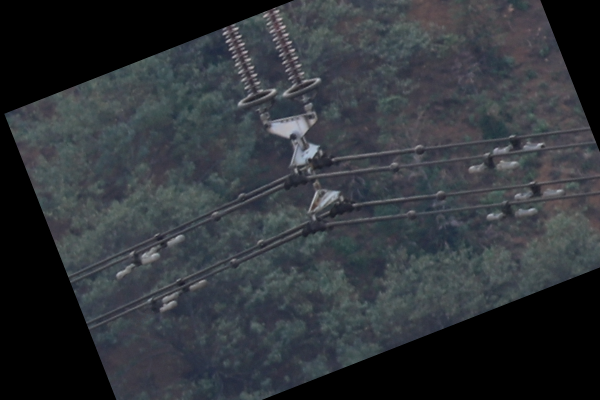damper: (113, 249, 161, 280), (161, 275, 209, 304), (142, 231, 187, 259), (484, 199, 539, 221), (491, 133, 547, 154), (465, 152, 519, 173), (512, 179, 566, 200)
damper_defect: (143, 297, 178, 317)
